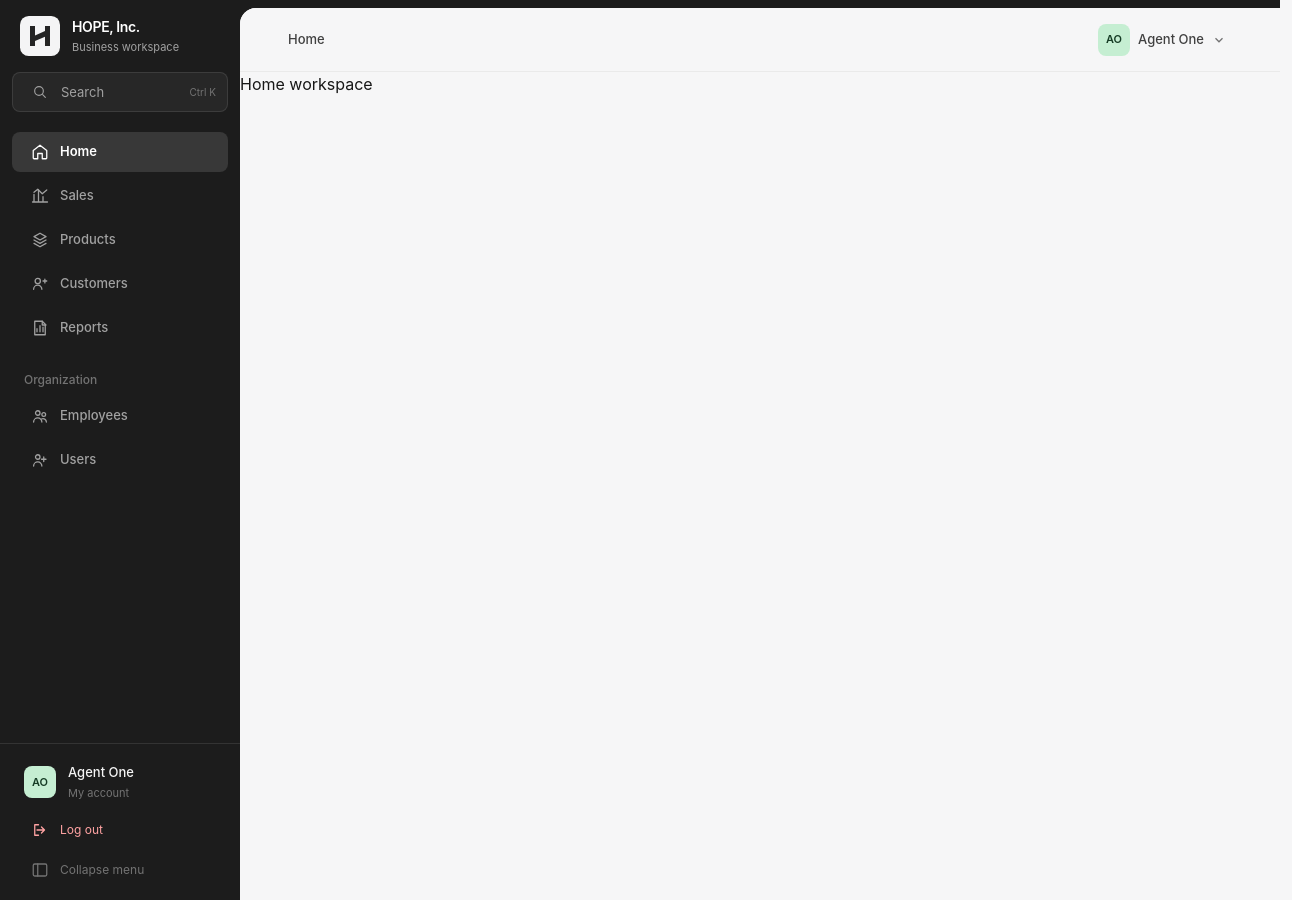
sidebar search opens modules without copying its query using click
Expected: the link "Agent One" is shown, [24,764,134,800]
Type "sales" into the search field named "Search workspace".
click(120, 92); type("sales")  # box [12,72,228,112]
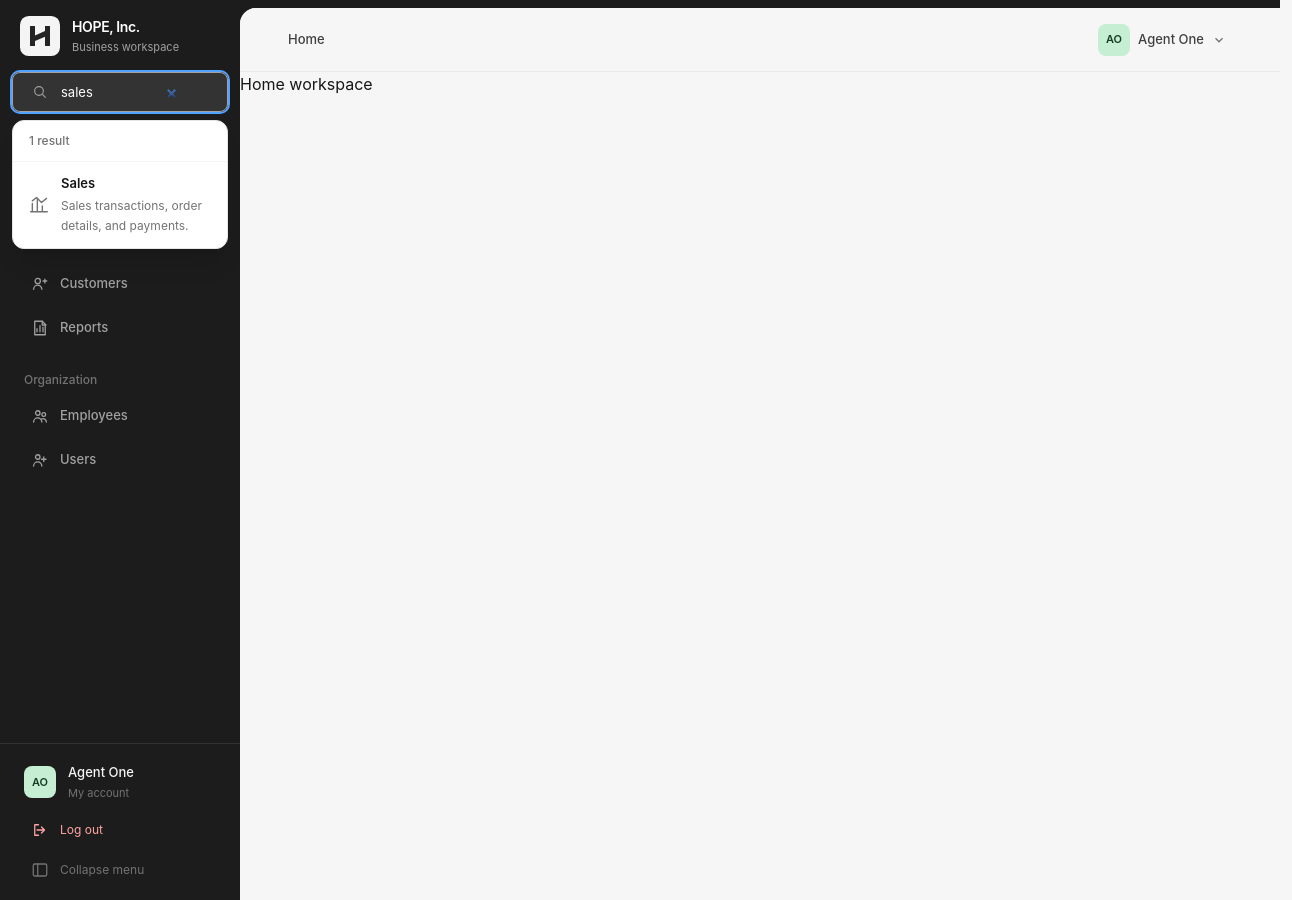
Click the option "Sales Sales transactions, order details, and payments.".
click(115, 204)  # box [29,175,202,232]
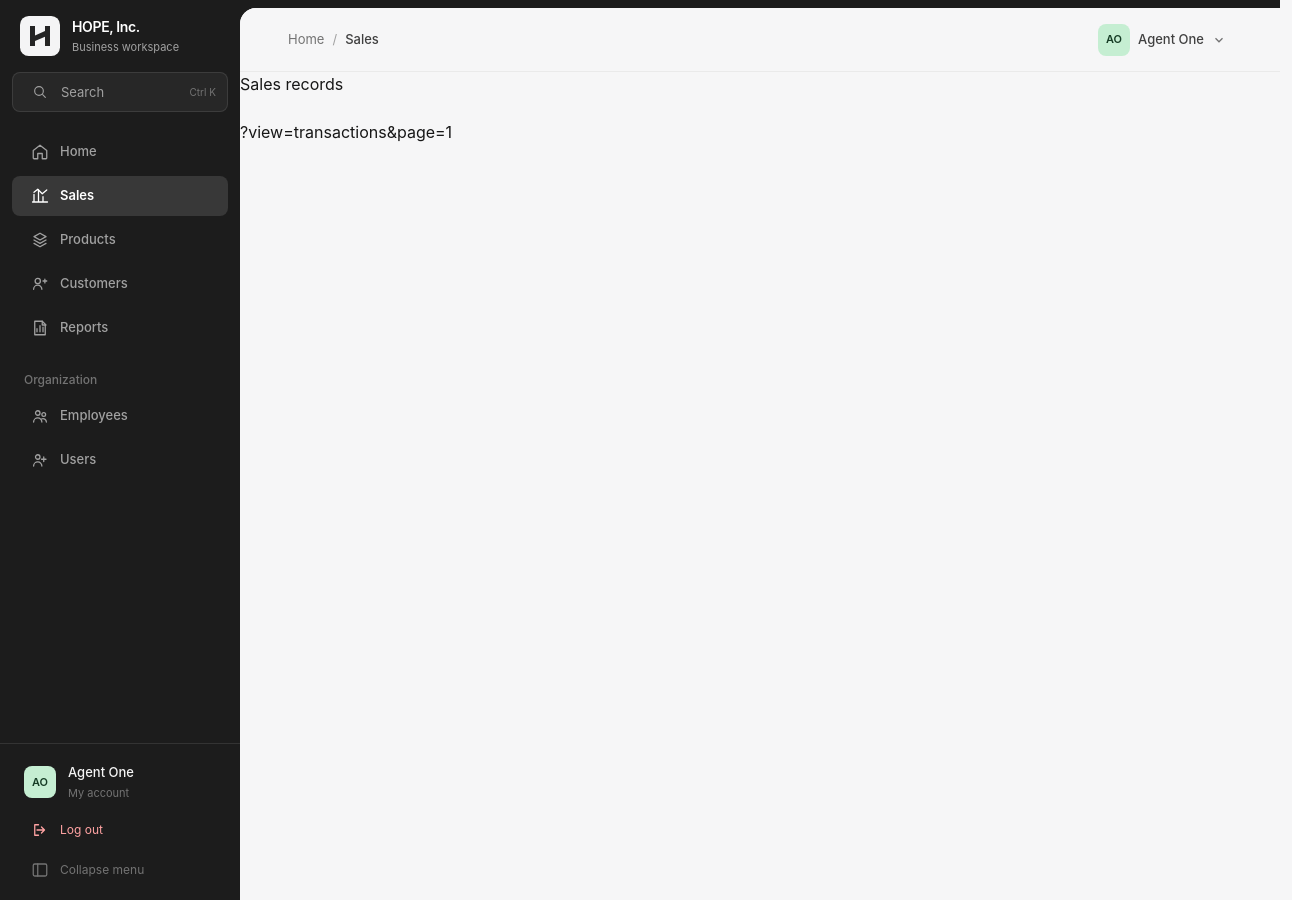
Result: the text "Sales records" is shown at [240,74,343,94]
Result: the text named "Destination URL" reads "?view=transactions&page=1" at [240,122,452,142]
Result: the search field named "Search workspace" is empty at [12,72,228,112]
